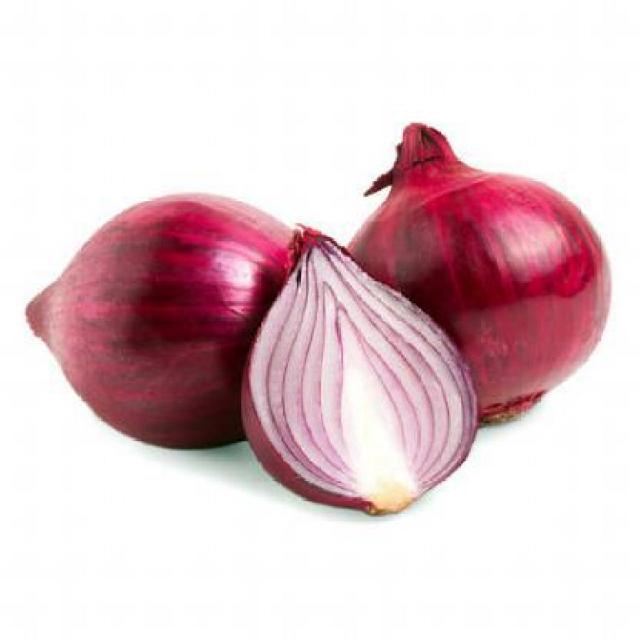onion: (352, 143, 618, 414), (46, 200, 320, 443)
